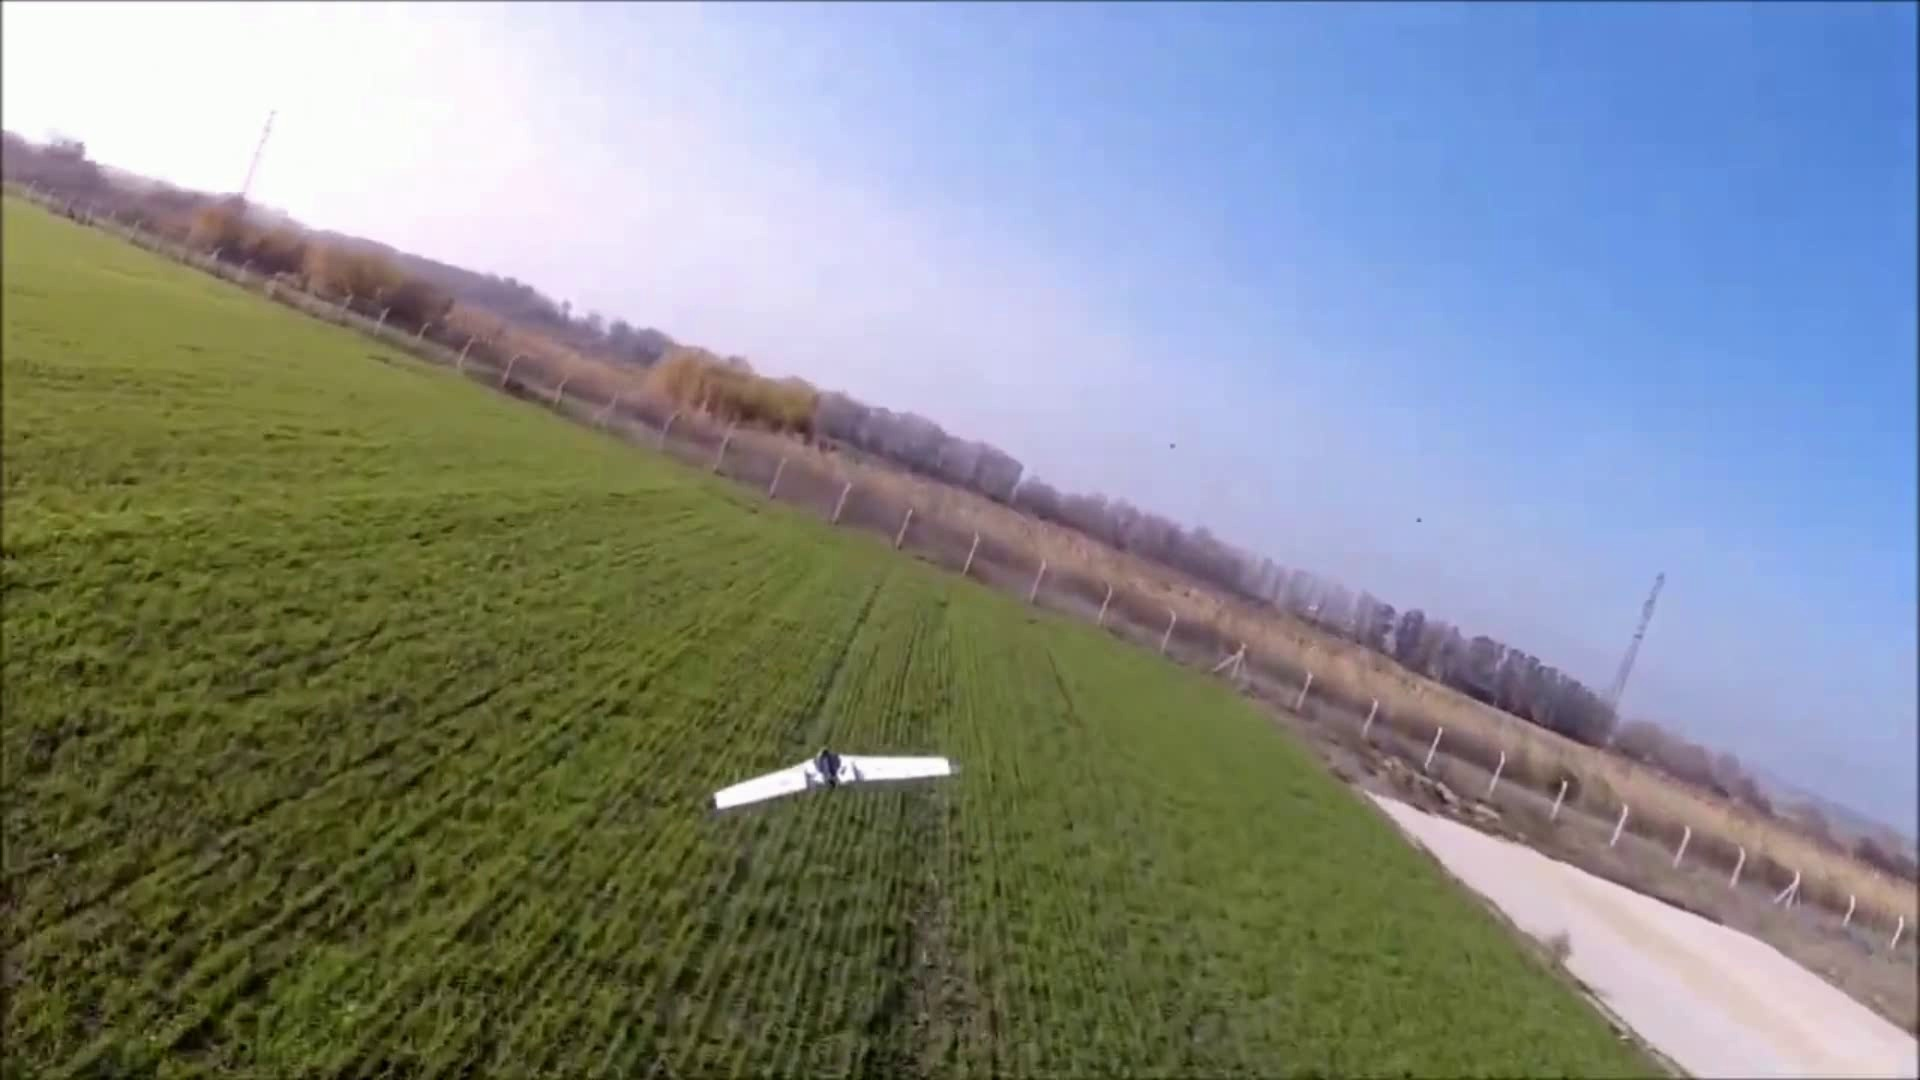airplane: (713, 746, 955, 814)
